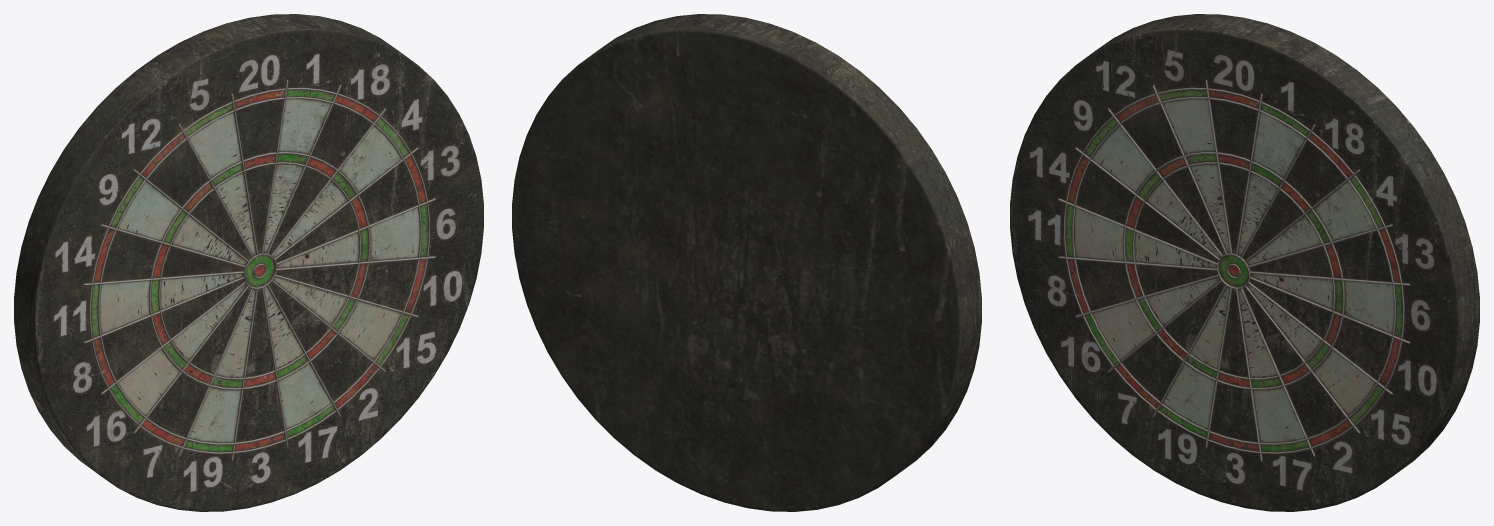
The model's file is dartboard.gltf.
3 renders of one model, left to right at view 1: azimuth 30°, elevation 25°; view 2: azimuth 150°, elevation 25°; view 3: azimuth 330°, elevation 25°, orthographic.
Visible parts, largest first — view 1: dartboard; view 2: dartboard; view 3: dartboard.
Boxes of the visible parts, x1,y1,x2,y2 form: dartboard: (14,14,483,511); dartboard: (512,14,981,511); dartboard: (1010,14,1479,511).
Size of the model in its own units: 0.4507 by 0.4507 by 0.0398.
Materials: 1 (1 with a texture image).
